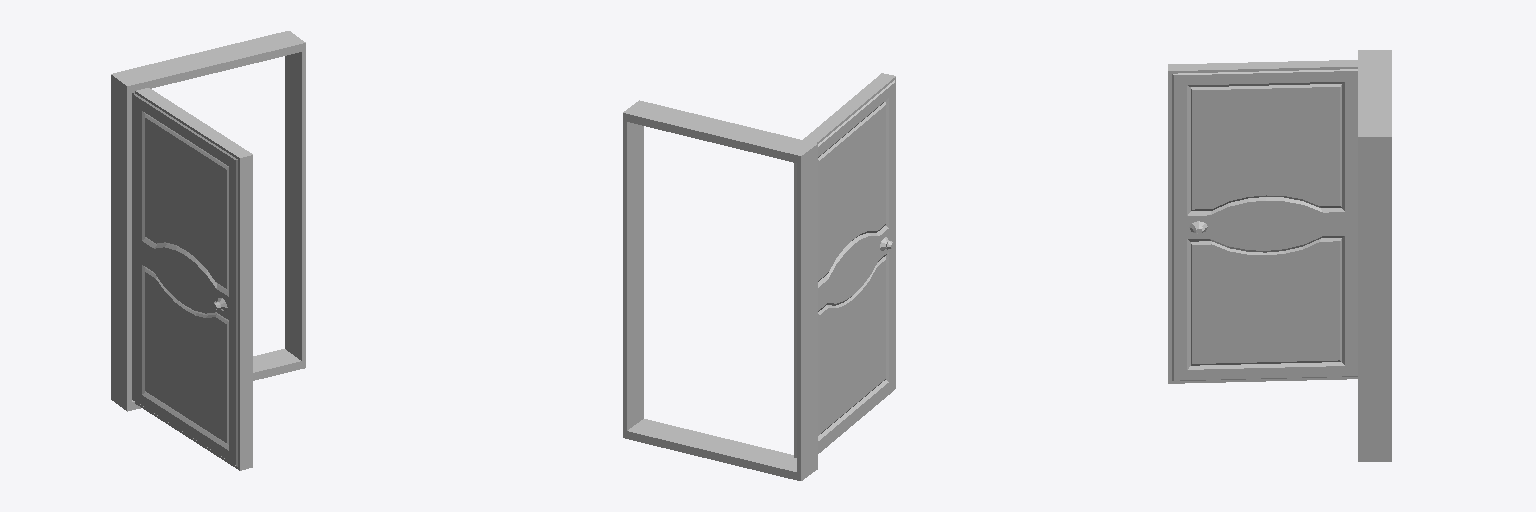
The model's file is drzwiok_000007.obj.
3 renders of one model, left to right at view 1: azimuth 30°, elevation 25°; view 2: azimuth 150°, elevation 25°; view 3: azimuth 270°, elevation 25°, orthographic.
Visible parts, largest first — view 1: Door_4.001_Cube.001, Kostka; view 2: Door_4.001_Cube.001, Kostka; view 3: Door_4.001_Cube.001, Kostka.
Boxes of the visible parts, x1=… form: Door_4.001_Cube.001: x1=132, y1=88, x2=252, y2=470; Kostka: x1=111, y1=31, x2=305, y2=411; Door_4.001_Cube.001: x1=794, y1=73, x2=895, y2=457; Kostka: x1=623, y1=100, x2=817, y2=480; Door_4.001_Cube.001: x1=1168, y1=60, x2=1357, y2=383; Kostka: x1=1358, y1=50, x2=1391, y2=461.
Size of the model in its own units: 0.7416 by 1.29 by 0.8089.